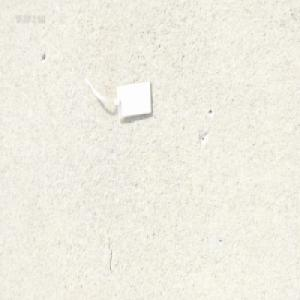LuggageTag: (81, 72, 153, 124)
